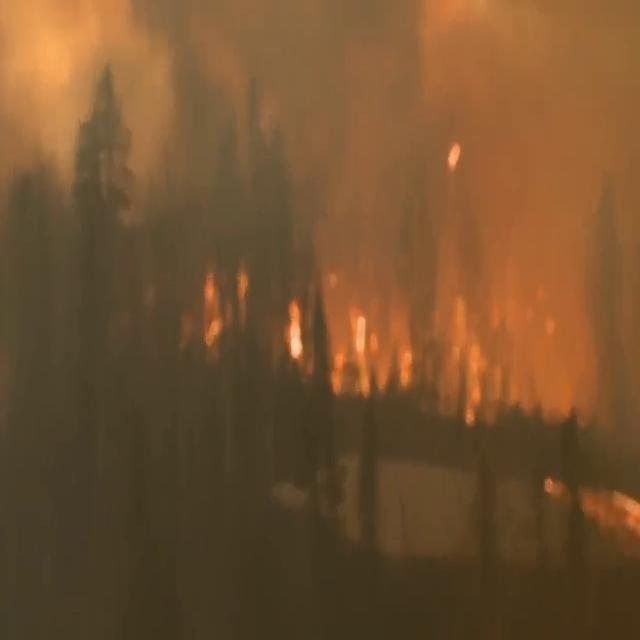Smoke: (336, 1, 640, 442), (87, 0, 368, 364)
